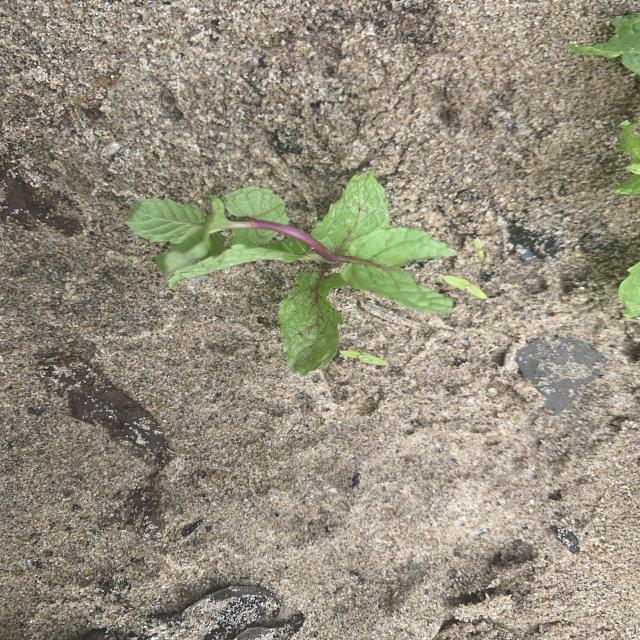crop: (127, 172, 455, 374), (569, 13, 640, 75), (614, 117, 640, 194), (619, 262, 640, 317)
weed: (442, 276, 488, 299), (339, 350, 389, 368), (473, 237, 484, 259)
